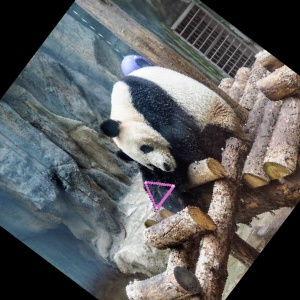triangle: (143, 180, 176, 212)
